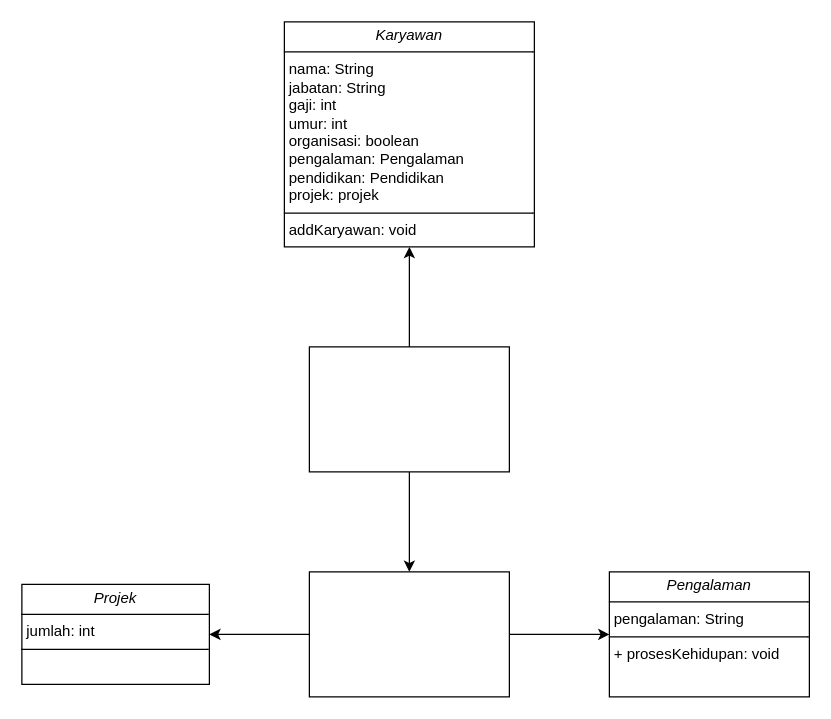
The diagram is 831 pixels wide and 719 high, and some of its shapes have lost their labels. Here are the shapes that lost their labels. From the top down, the box of each, then its label:
(308, 346, 509, 472): <<Abstract>> Kehidupan + prosesKehidupan: void
(308, 571, 509, 697): Pendidikan tingkat: int pend: String + match: void
